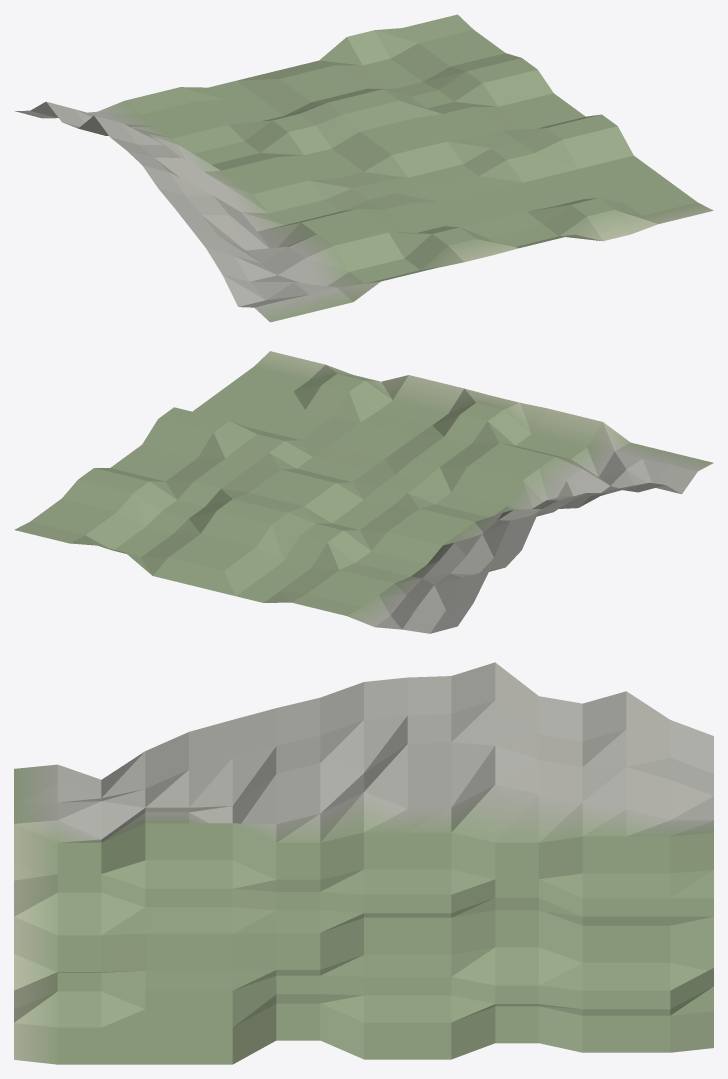
The picture shows the model from 3 angles, top to bottom: view 1: azimuth 30°, elevation 25°; view 2: azimuth 150°, elevation 25°; view 3: azimuth 270°, elevation 25°; orthographic projection. The views are drawn at different scales.
Bounding box in the file's own units: 32 × 6.14 × 32.
